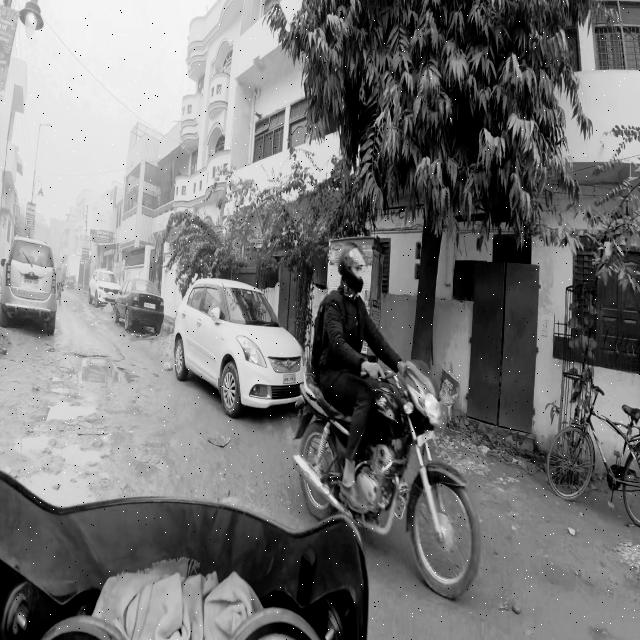Bike: (301, 235, 482, 606)
Car: (168, 269, 296, 409), (0, 231, 58, 344), (116, 274, 164, 340), (86, 261, 120, 306)
